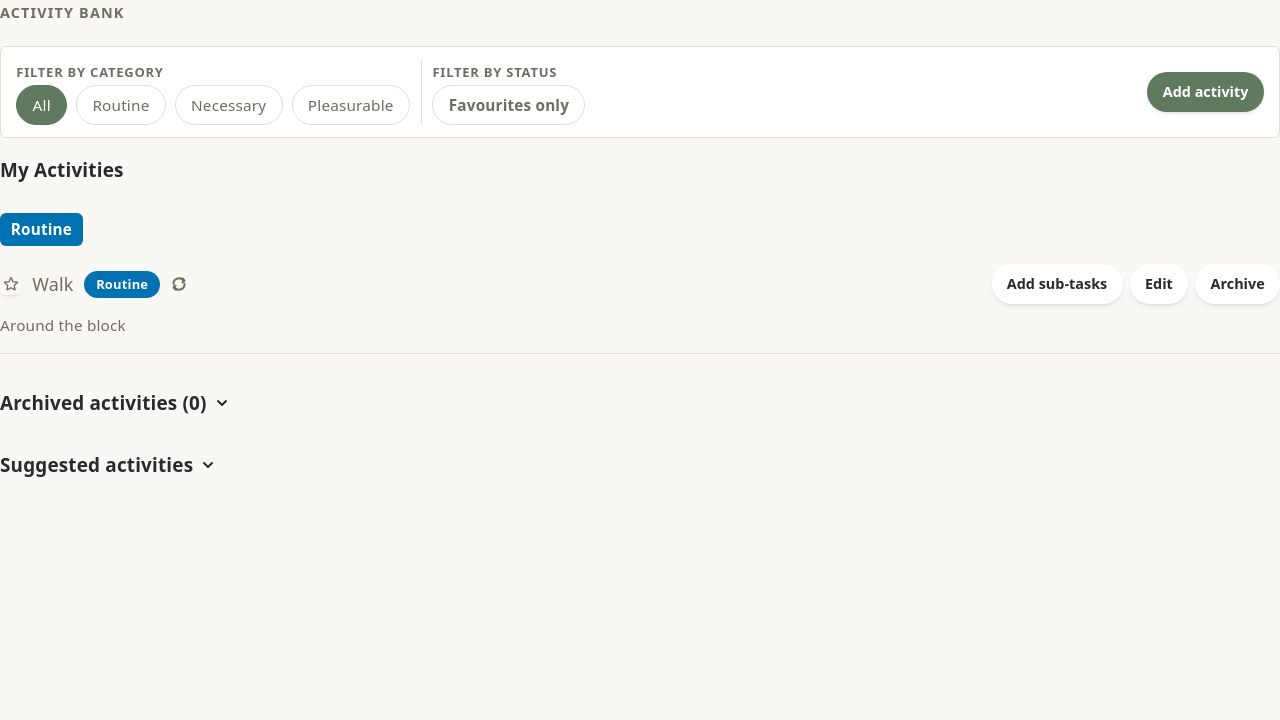
Scenario: ActivityBank › FRONTEND-002-AC-20: successful update replaces the list entry › shows the updated name in place of the old one
Click the button "Edit": (1159, 284) [1130,264,1188,304]
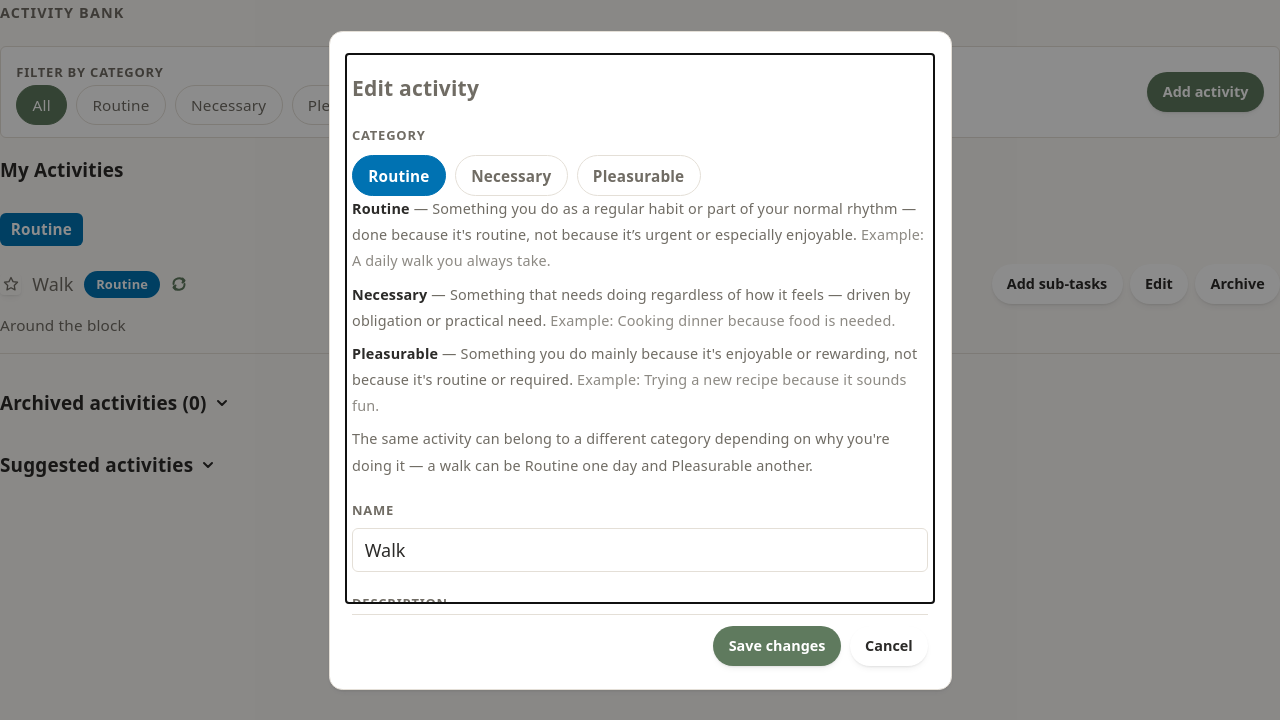
Replace the text in the field labelled "Name" with "Walk further": (640, 550) [352,528,928,572]
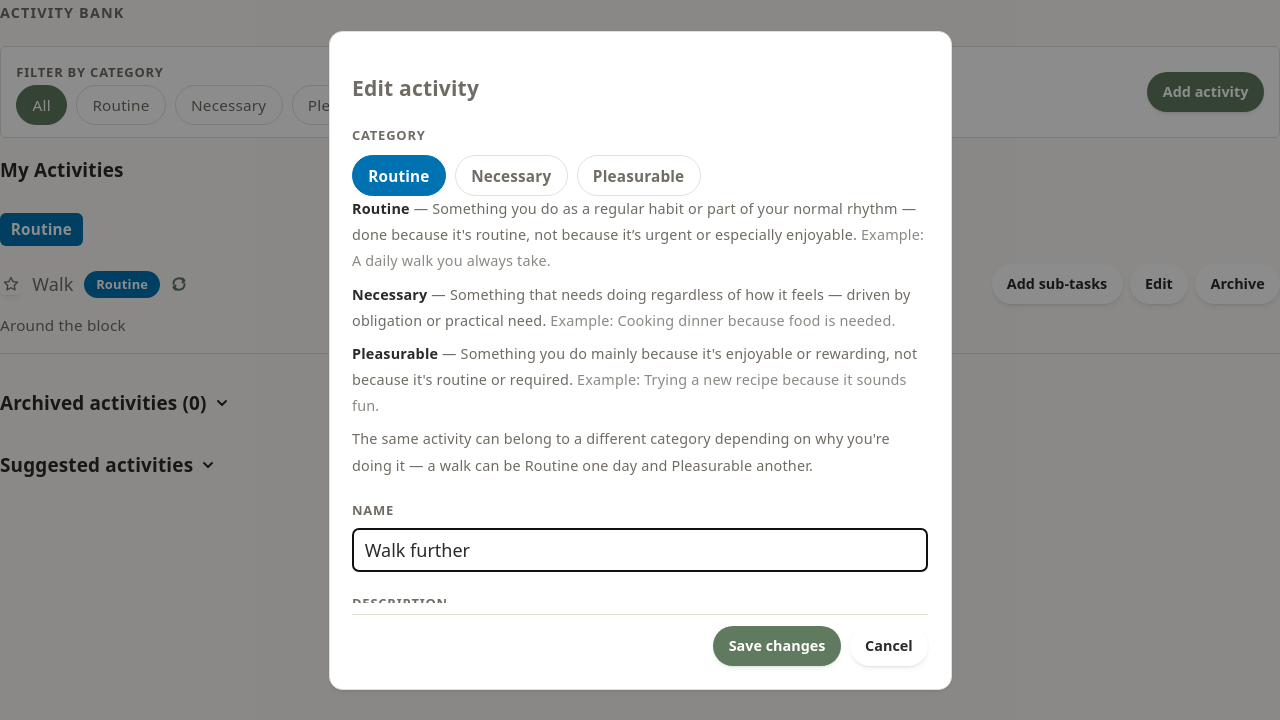
Click the button "Save changes": (777, 646) [713,626,841,666]
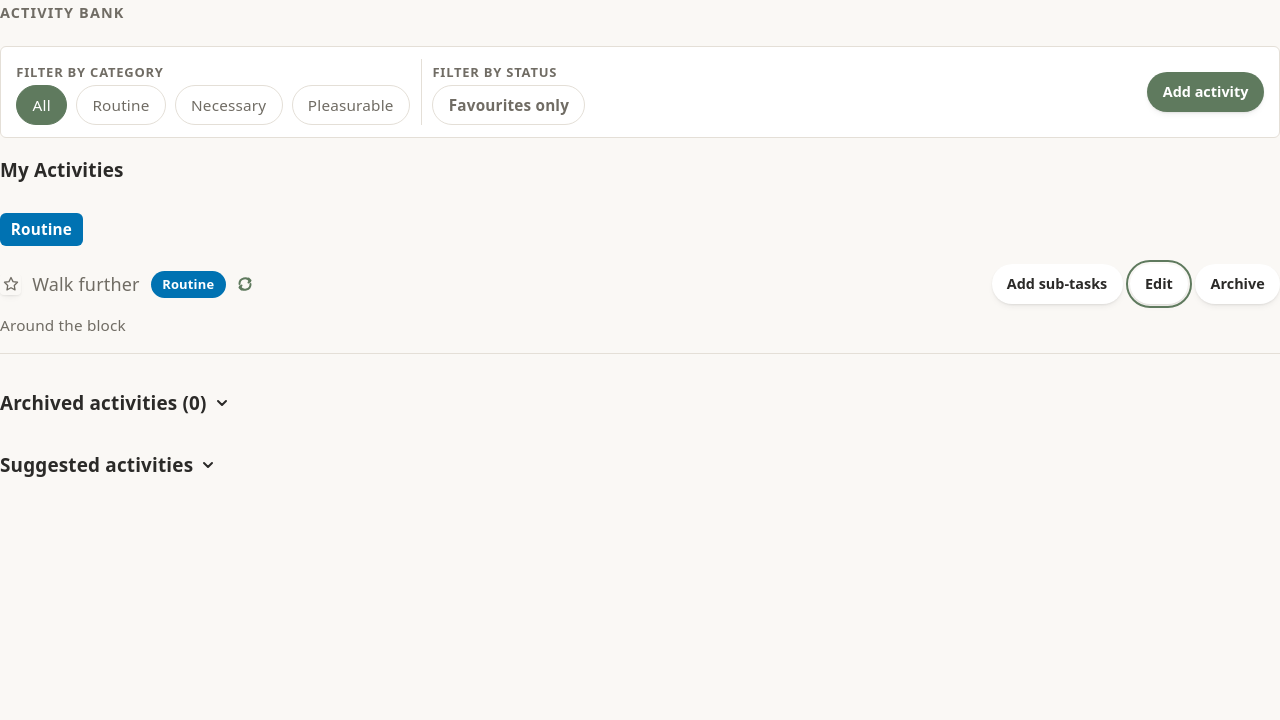
Check: the text "Walk further" is shown, box [32,271,140,297]
